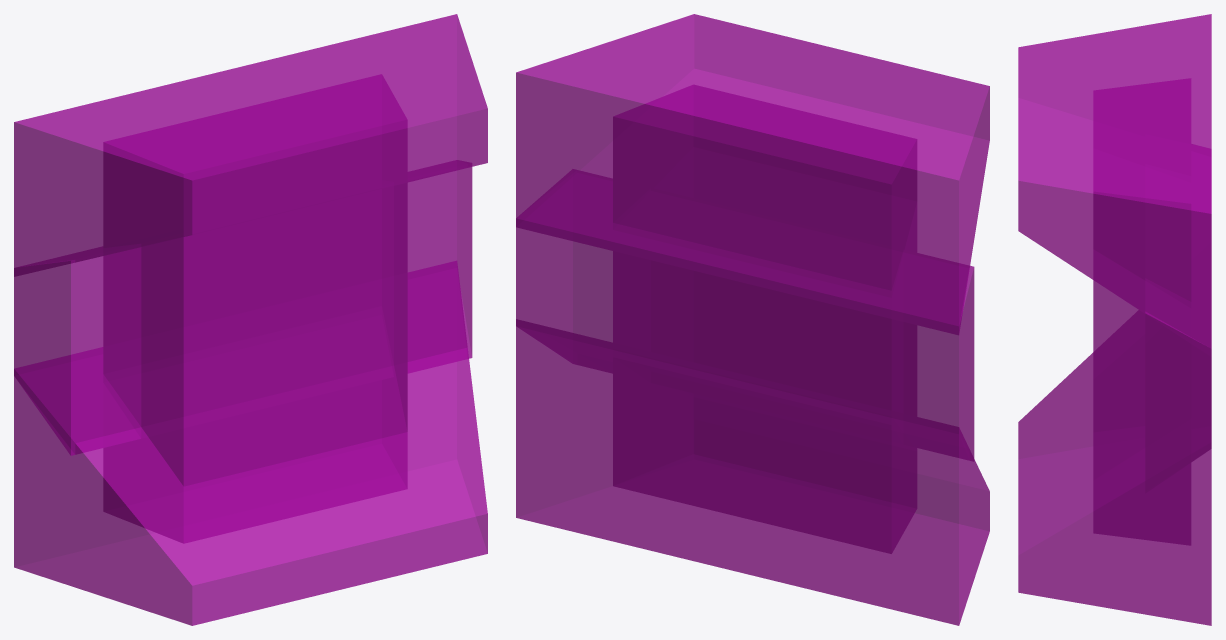
Rendered from SM_Bld_Wall_Reactor_02_Collision.fbx.
The picture shows the model from 3 angles, left to right: view 1: azimuth 30°, elevation 25°; view 2: azimuth 150°, elevation 25°; view 3: azimuth 270°, elevation 25°; orthographic projection. The views are drawn at different scales.
Visible parts, largest first — view 1: SM_Bld_Wall_Reactor_02_Collision; view 2: SM_Bld_Wall_Reactor_02_Collision; view 3: SM_Bld_Wall_Reactor_02_Collision.
Part boxes in pixels (<box>): SM_Bld_Wall_Reactor_02_Collision: <box>14,14,487,625</box>; SM_Bld_Wall_Reactor_02_Collision: <box>516,14,989,625</box>; SM_Bld_Wall_Reactor_02_Collision: <box>1018,14,1211,625</box>.
Bounding box in the file's own units: 316 × 304 × 129.
